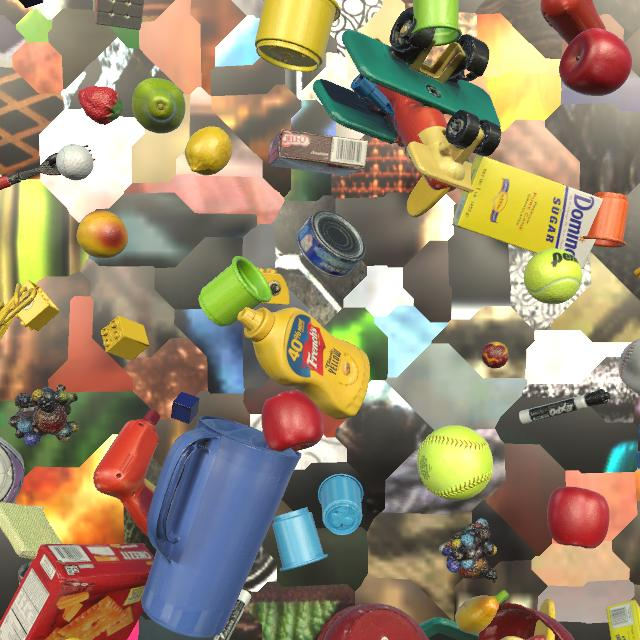ycb_003_cracker_box: (0, 543, 154, 640)
ycb_004_sugar_box: (452, 156, 603, 269), (607, 600, 640, 640)
ycb_005_tomato_soup_can: (18, 560, 33, 585)
ycb_006_mustard_bottle: (237, 307, 370, 420)
ycb_007_tuna_fish_can: (296, 210, 366, 278)
ycb_008_pudding_box: (268, 129, 368, 176)
ycb_011_banana: (455, 589, 509, 634)
ycb_012_strawberry: (78, 86, 123, 125)
ycb_013_apple: (559, 28, 632, 96), (261, 390, 324, 452), (547, 487, 610, 549)
ycb_014_lemon: (185, 126, 232, 176)
ycb_015_peach: (77, 210, 128, 258)
ycb_016_pear: (132, 78, 185, 133)
